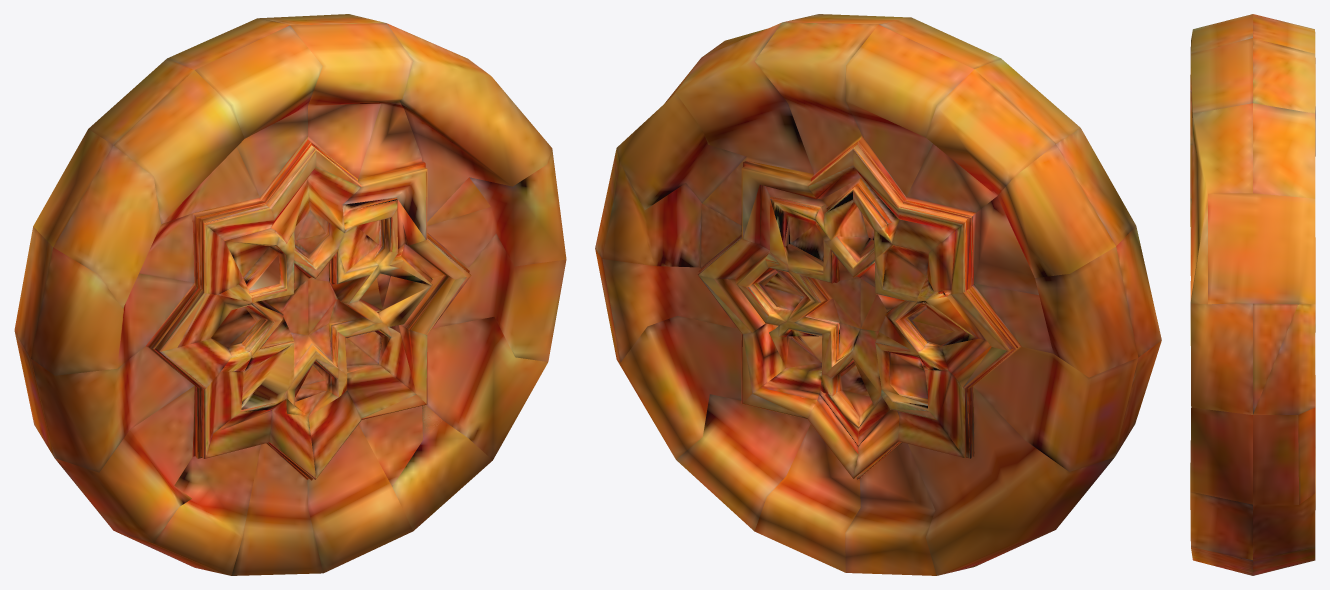
Rendered from coin.glb.
3 renders of one model, left to right at view 1: azimuth 30°, elevation 25°; view 2: azimuth 150°, elevation 25°; view 3: azimuth 270°, elevation 25°, orthographic. The views are drawn at different scales.
Parts seen in each view (by area): view 1: geometry_0; view 2: geometry_0; view 3: geometry_0.
Boxes of the visible parts, x1,y1,x2,y2 form: geometry_0: (14,14,566,575); geometry_0: (595,14,1161,575); geometry_0: (1190,14,1315,575).
Size of the model in its own units: 0.9565 by 0.9502 by 0.2104.
Materials: 1 (1 with a texture image).
